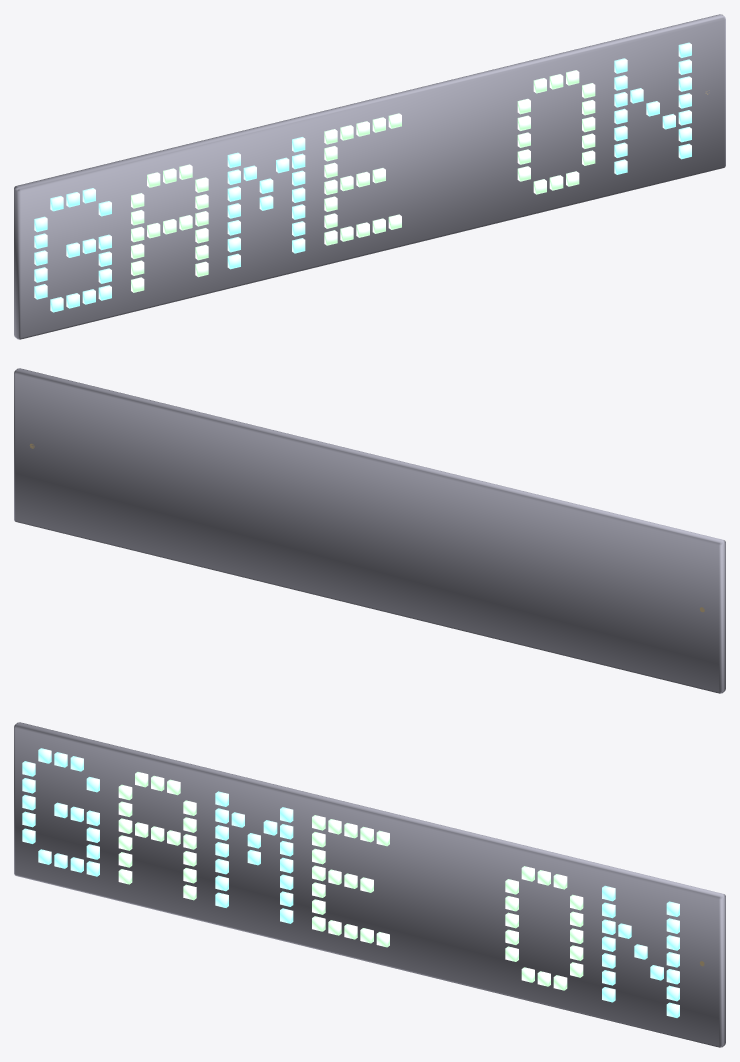
File: neon_game_on.glb
The picture shows the model from 3 angles, top to bottom: view 1: azimuth 30°, elevation 25°; view 2: azimuth 150°, elevation 25°; view 3: azimuth 330°, elevation 25°; orthographic projection.
Visible parts, largest first — view 1: Neon backer, Neon cyan, Neon green; view 2: Neon backer; view 3: Neon backer, Neon cyan, Neon green.
Boxes of the visible parts, x1,y1,x2,y2 form: Neon backer: [14, 14, 725, 339]; Neon cyan: [34, 42, 691, 312]; Neon green: [131, 70, 595, 292]; Neon backer: [14, 368, 725, 693]; Neon backer: [14, 722, 725, 1047]; Neon cyan: [22, 748, 679, 1017]; Neon green: [118, 772, 583, 990].
Bounding box in the file's own units: 2.2 × 0.45 × 0.055.
